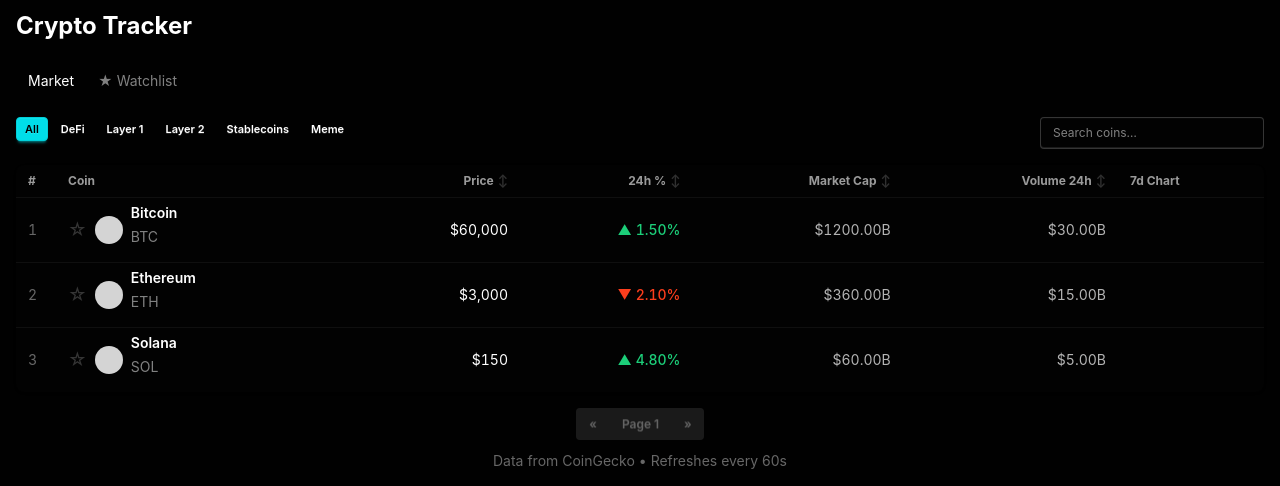
Test: search filtering › filters by coin name
In the search field: point(1152, 133) 1040,117 -> 1264,149, type "bit"
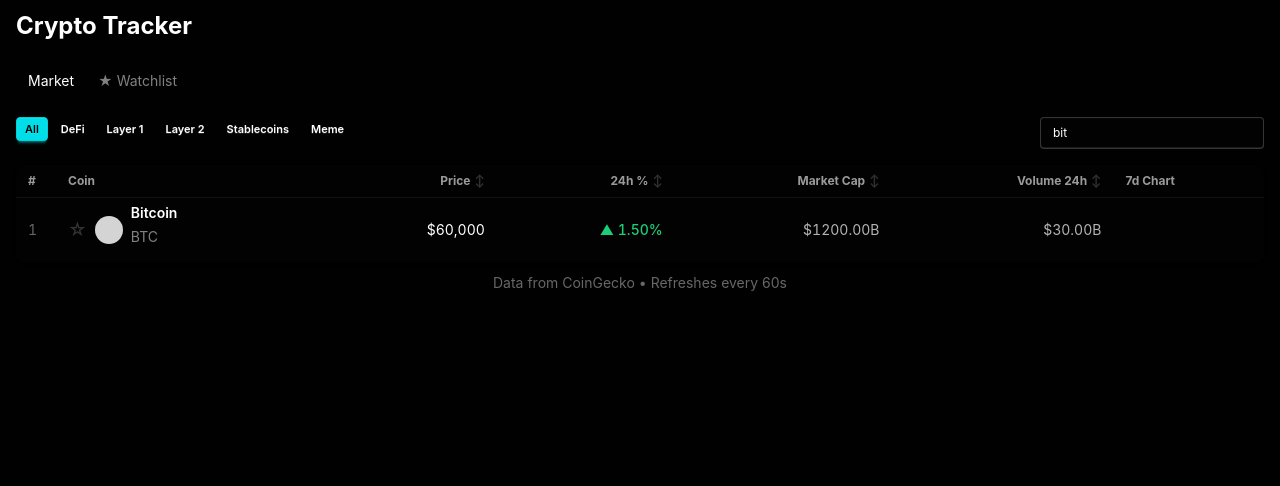
Expected: the text "Bitcoin" is shown, 131,206 -> 177,220
Now the link "Ethereum" is gone
Now the link "Solana" is gone
